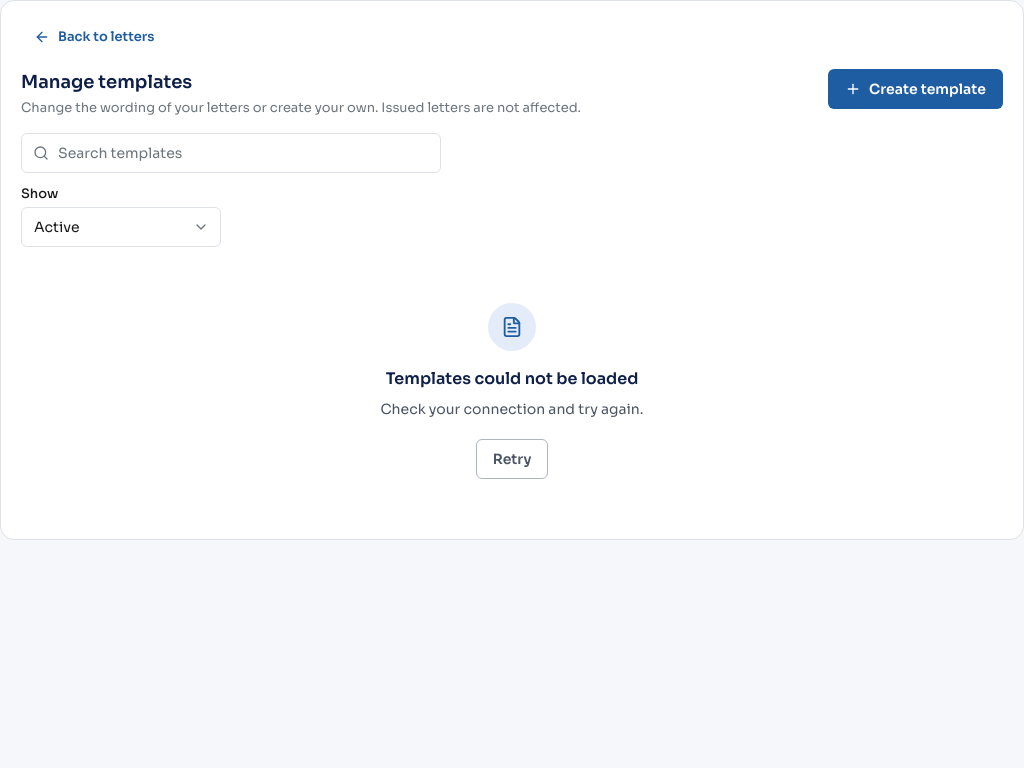
Test: shows a retry state when loading fails
Check: the text "Templates could not be loaded" is shown, box [386, 367, 638, 391]
Click the button "Retry". click: (512, 459)
box: [476, 439, 548, 479]
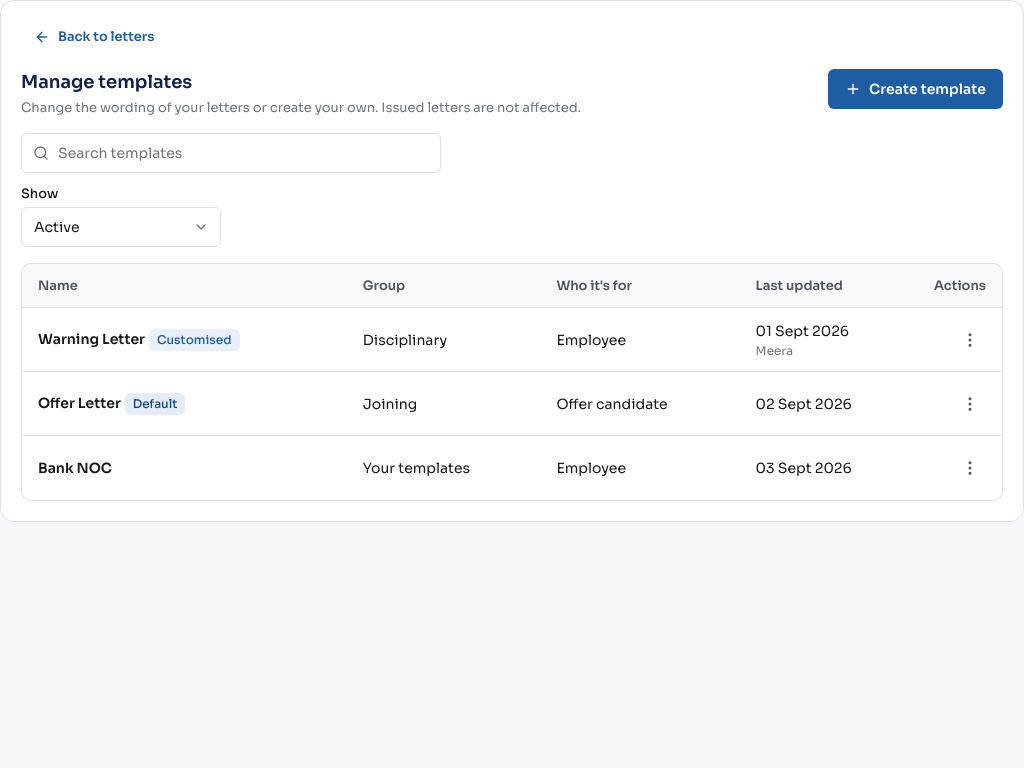
Check: the text "Warning Letter" is shown, box [38, 328, 145, 350]
